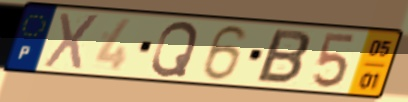4: (91, 17, 135, 74)
5: (308, 30, 359, 90)
6: (199, 23, 250, 83)
B: (253, 27, 313, 87)
Q: (148, 19, 201, 78)
X: (40, 11, 103, 73)
